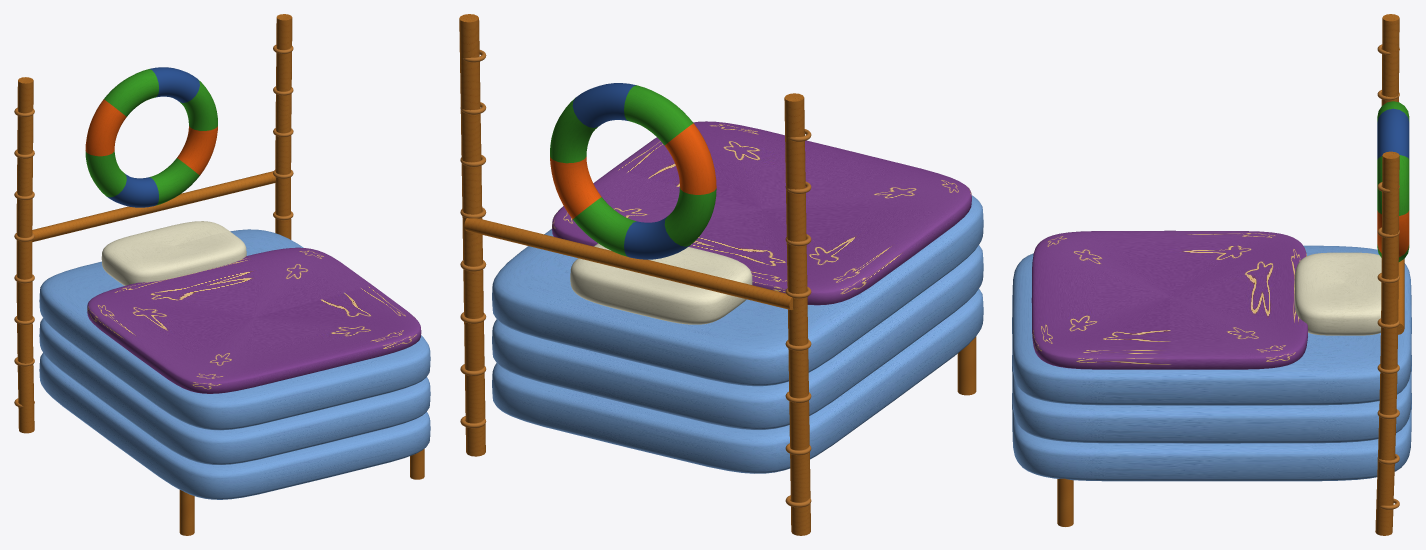
File: bed.glb
3 renders of one model, left to right at view 1: azimuth 30°, elevation 25°; view 2: azimuth 150°, elevation 25°; view 3: azimuth 270°, elevation 25°, orthographic. The views are drawn at different scales.
Visible parts, largest first — view 1: bed_blue porcelain, bed_purple quilt, bed_bamboo, bed_green tubes, bed_cream rubber, bed_warm wood; view 2: bed_blue porcelain, bed_purple quilt, bed_bamboo, bed_green tubes, bed_cream rubber, bed_warm wood; view 3: bed_blue porcelain, bed_purple quilt, bed_bamboo, bed_cream rubber, bed_green tubes, bed_warm wood.
Part boxes in pixels (box(x1,y1,x2,y2)): bed_blue porcelain: box(39, 229, 430, 499); bed_purple quilt: box(87, 247, 421, 393); bed_bamboo: box(16, 14, 424, 535); bed_green tubes: box(85, 67, 217, 207); bed_cream rubber: box(101, 221, 246, 285); bed_warm wood: box(14, 45, 293, 407); bed_blue porcelain: box(492, 195, 983, 473); bed_purple quilt: box(552, 121, 971, 305); bed_bamboo: box(459, 14, 976, 535); bed_green tubes: box(550, 83, 716, 259); bed_cream rubber: box(570, 243, 752, 324); bed_warm wood: box(460, 50, 811, 507); bed_blue porcelain: box(1012, 245, 1411, 481); bed_purple quilt: box(1031, 230, 1307, 369); bed_bamboo: box(1057, 14, 1404, 535); bed_cream rubber: box(1294, 252, 1381, 335); bed_green tubes: box(1377, 101, 1409, 261); bed_warm wood: box(1377, 44, 1399, 509).
Size of the model in its own units: 1.5 by 1.8 by 1.72.
Materials: 8 (7 with a texture image).
